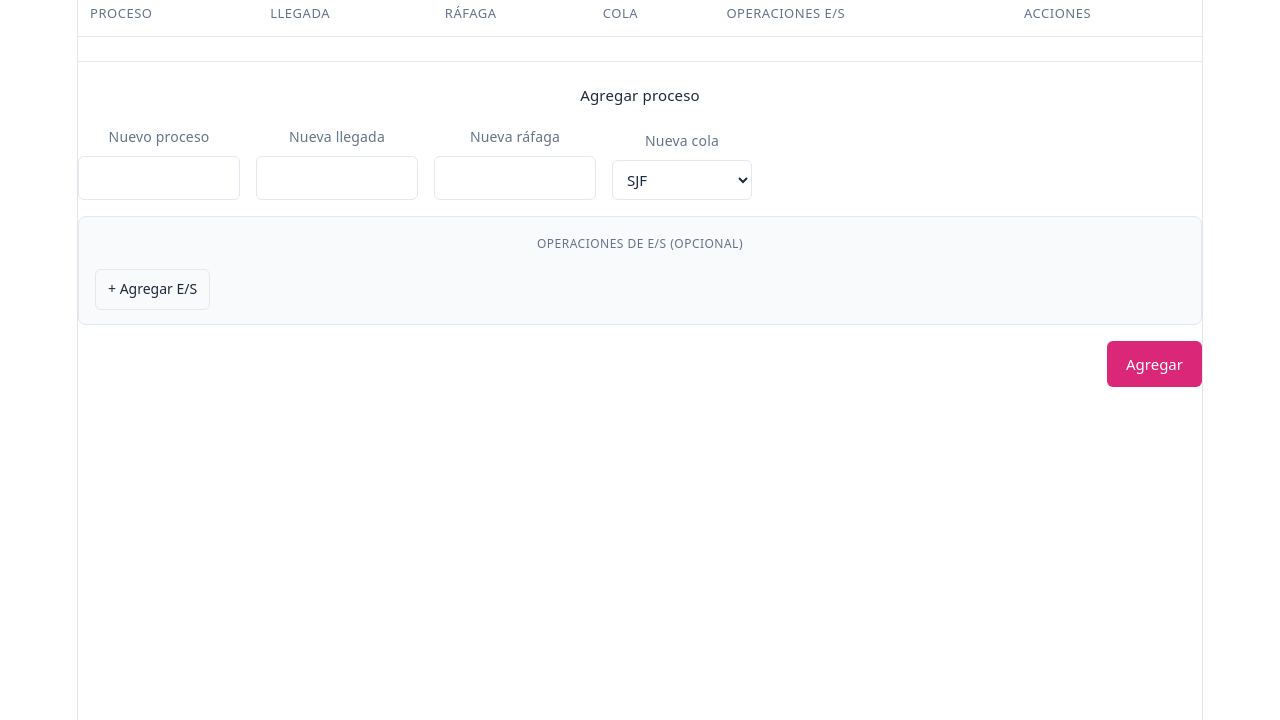
Test: ProcessTable › rejects non-numeric burstTime with a validation error and does not add the row [4.5]
In the field labelled "Nuevo proceso": (159, 178) left=78, top=156, right=240, bottom=200, type "P1"
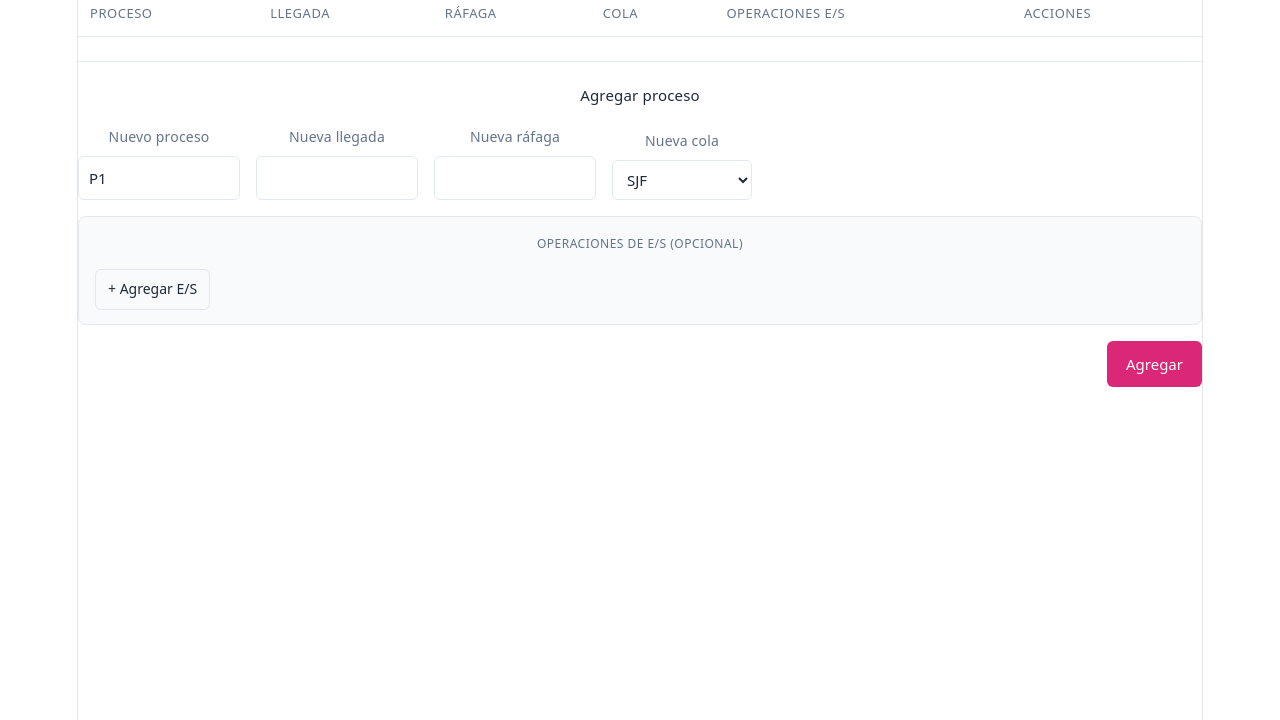
In the field labelled "Nueva llegada": (337, 178) left=256, top=156, right=418, bottom=200, type "1"
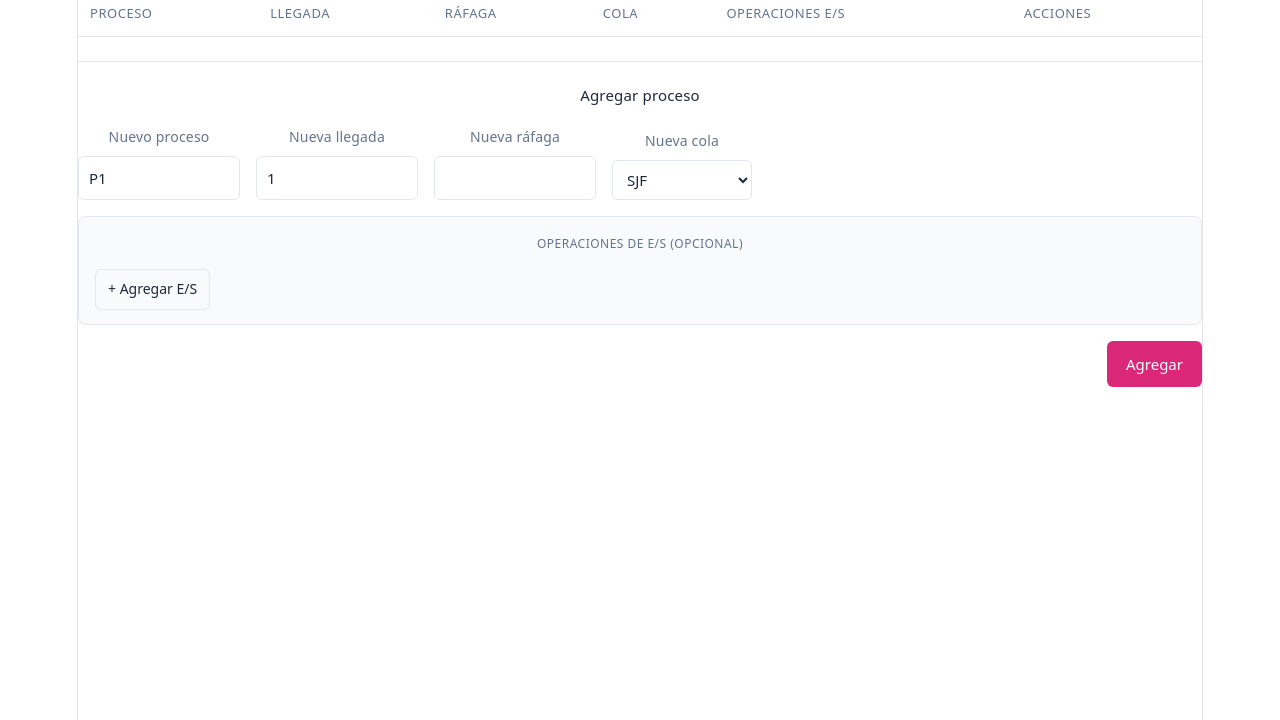
In the field labelled "Nueva ráfaga": (515, 178) left=434, top=156, right=596, bottom=200, type "abc"
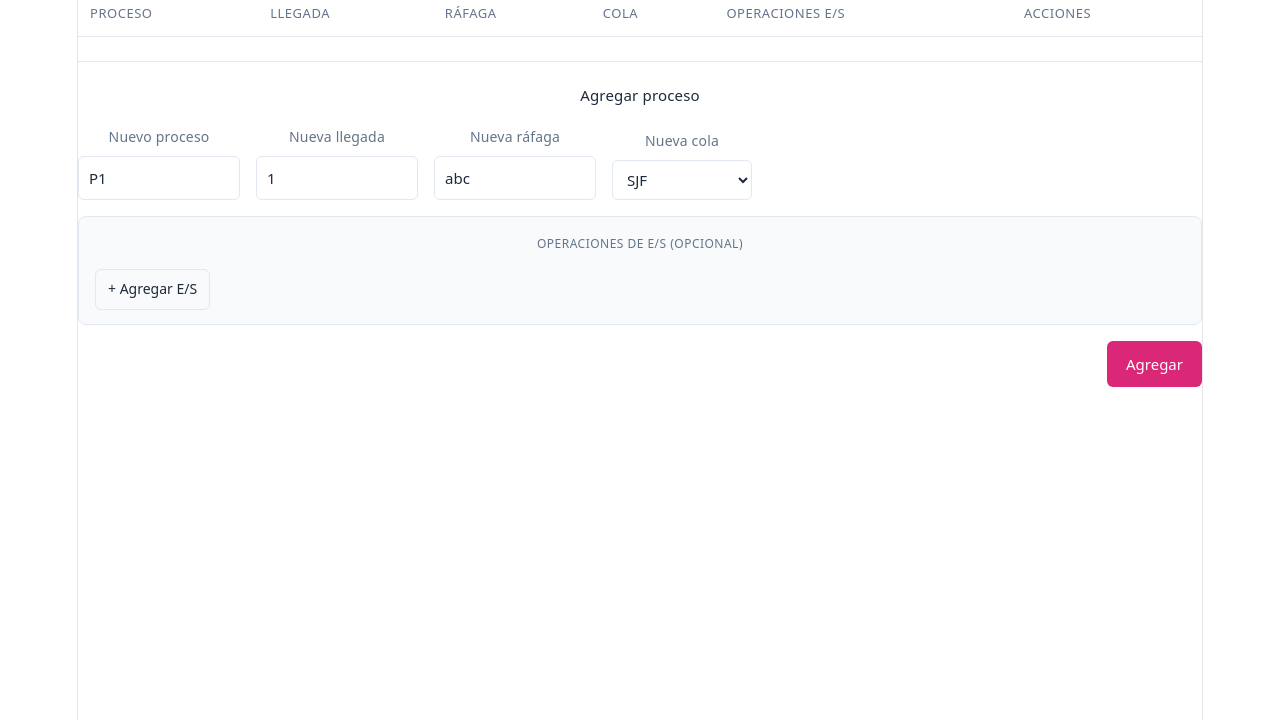
Click the button "Agregar": (1154, 364) left=1107, top=341, right=1202, bottom=387
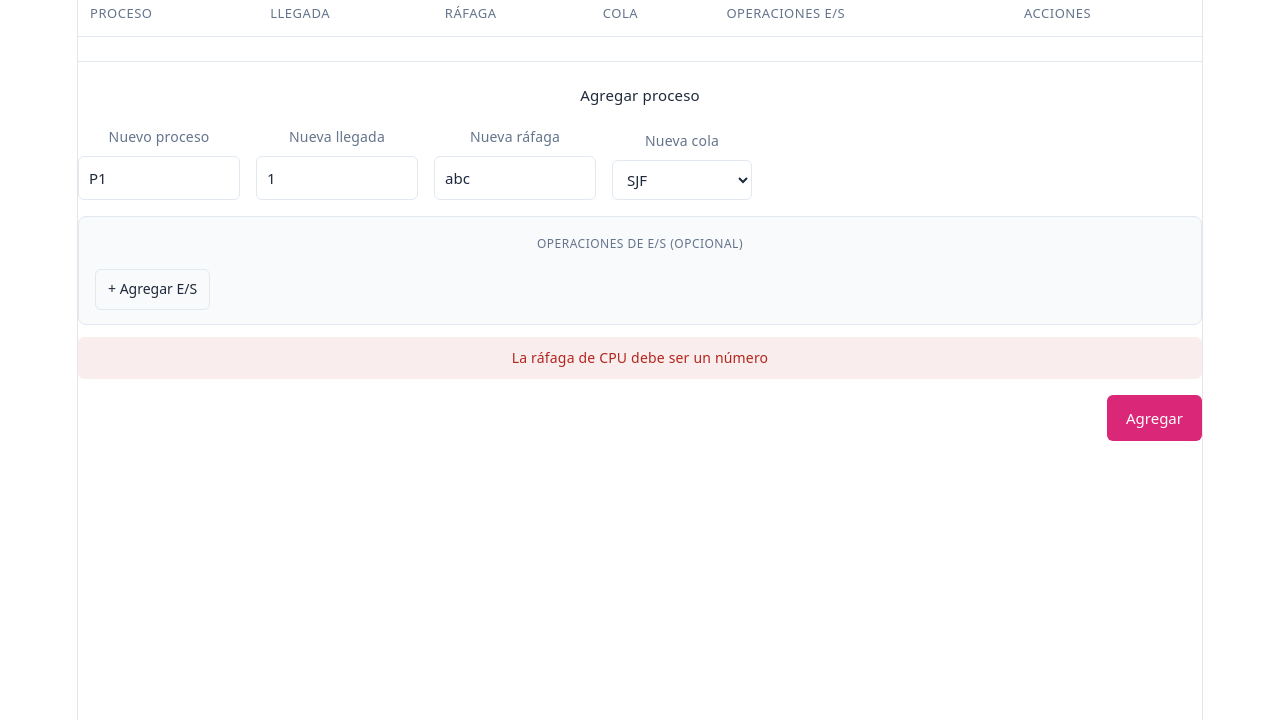
Now the message shows "ráfaga", box left=512, top=348, right=768, bottom=367
